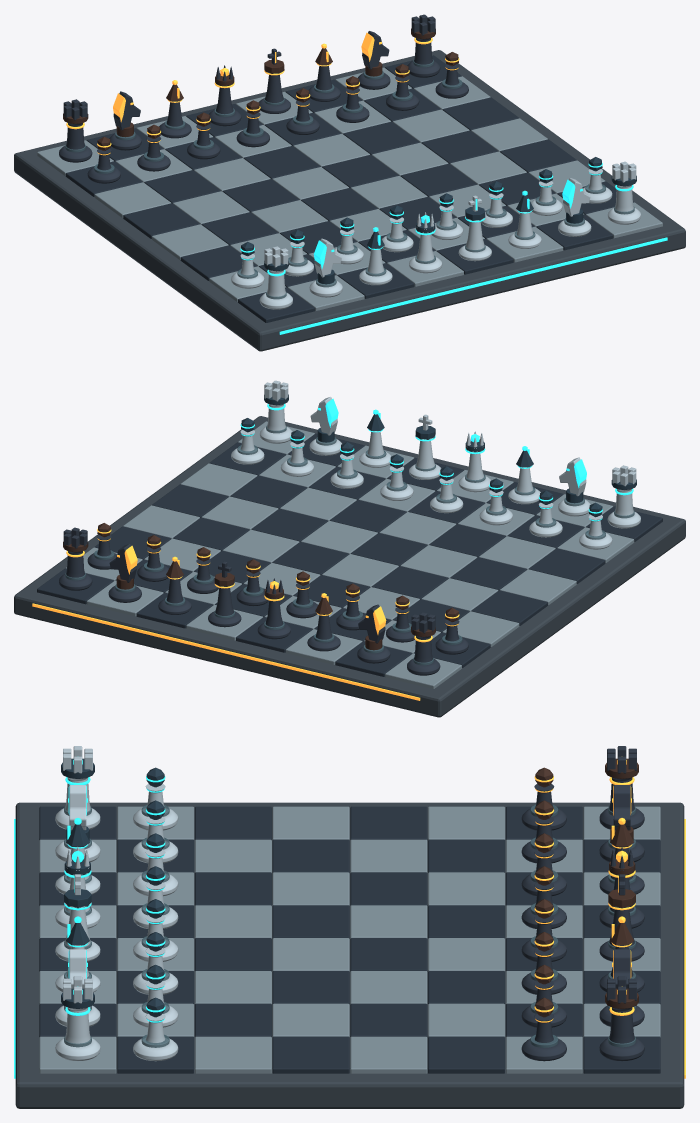
The model's file is full-set.glb.
3 views of the same model, one above another, from view 1: azimuth 30°, elevation 25°; view 2: azimuth 150°, elevation 25°; view 3: azimuth 270°, elevation 25° (orthographic). The views are drawn at different scales.
Parts seen in each view (by area): view 1: SciFi_Board, a8_r_b, h1_r_w, a1_r_w, h8_r_b, b1_n_w, g1_n_w, g8_n_b, b8_n_b, e1_k_w, e8_k_b, d1_q_w (+21 smaller); view 2: SciFi_Board, a1_r_w, h8_r_b, a8_r_b, h1_r_w, b8_n_b, g8_n_b, g1_n_w, b1_n_w, e8_k_b, e1_k_w, d8_q_b (+21 smaller); view 3: SciFi_Board, h1_r_w, h8_r_b, a1_r_w, a8_r_b, h2_p_w, h7_p_b, e8_k_b, e1_k_w, b8_n_b, b1_n_w, d1_q_w (+21 smaller).
Boxes of the visible parts, x1=… form: SciFi_Board: x1=14, y1=50, x2=685, y2=351; a8_r_b: x1=59, y1=99, x2=92, y2=162; h1_r_w: x1=607, y1=161, x2=640, y2=224; a1_r_w: x1=259, y1=246, x2=292, y2=309; h8_r_b: x1=407, y1=14, x2=440, y2=77; b1_n_w: x1=309, y1=238, x2=342, y2=297; g1_n_w: x1=558, y1=178, x2=591, y2=236; g8_n_b: x1=358, y1=31, x2=390, y2=89; b8_n_b: x1=109, y1=91, x2=141, y2=150; e1_k_w: x1=458, y1=195, x2=491, y2=261; e8_k_b: x1=258, y1=48, x2=290, y2=113; d1_q_w: x1=409, y1=212, x2=442, y2=273; SciFi_Board: x1=14, y1=416, x2=685, y2=717; a1_r_w: x1=607, y1=465, x2=640, y2=528; h8_r_b: x1=59, y1=527, x2=92, y2=590; a8_r_b: x1=407, y1=612, x2=440, y2=675; h1_r_w: x1=259, y1=380, x2=292, y2=443; b8_n_b: x1=357, y1=604, x2=390, y2=663; g8_n_b: x1=108, y1=544, x2=141, y2=602; g1_n_w: x1=309, y1=397, x2=341, y2=455; b1_n_w: x1=558, y1=457, x2=590, y2=516; e8_k_b: x1=208, y1=561, x2=241, y2=627; e1_k_w: x1=409, y1=414, x2=441, y2=479; d8_q_b: x1=257, y1=578, x2=290, y2=639; SciFi_Board: x1=14, y1=802, x2=685, y2=1108; h1_r_w: x1=55, y1=976, x2=100, y2=1061; h8_r_b: x1=599, y1=976, x2=644, y2=1061; a1_r_w: x1=55, y1=746, x2=100, y2=829; a8_r_b: x1=599, y1=746, x2=644, y2=829; h2_p_w: x1=133, y1=997, x2=178, y2=1061; h7_p_b: x1=521, y1=997, x2=566, y2=1061; e8_k_b: x1=599, y1=874, x2=644, y2=961; e1_k_w: x1=55, y1=874, x2=100, y2=961; b8_n_b: x1=599, y1=785, x2=644, y2=862; b1_n_w: x1=55, y1=785, x2=100, y2=862; d1_q_w: x1=55, y1=847, x2=100, y2=928.
Size of the model in its own units: 8.6 by 1.57 by 8.64.
